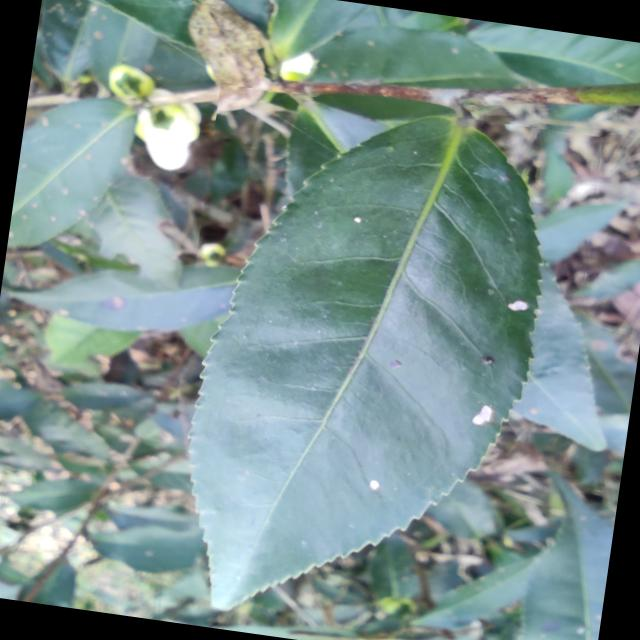Category D(7+ days, Not for Tea): (148, 83, 607, 640)
